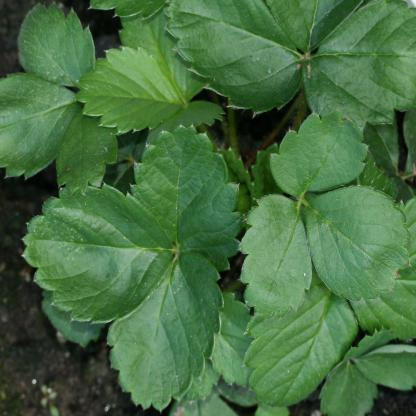strawberry leaf: (98, 249, 230, 408), (25, 184, 173, 321), (122, 120, 241, 263), (302, 187, 406, 299), (76, 37, 190, 134), (238, 191, 316, 327), (271, 102, 371, 203), (0, 67, 89, 179), (13, 2, 108, 93)
